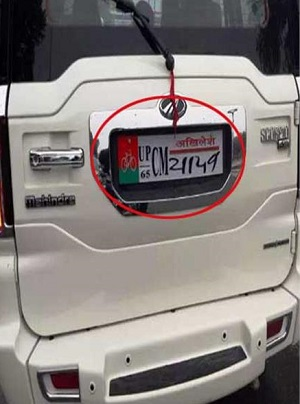number_plate: (111, 123, 232, 193)
